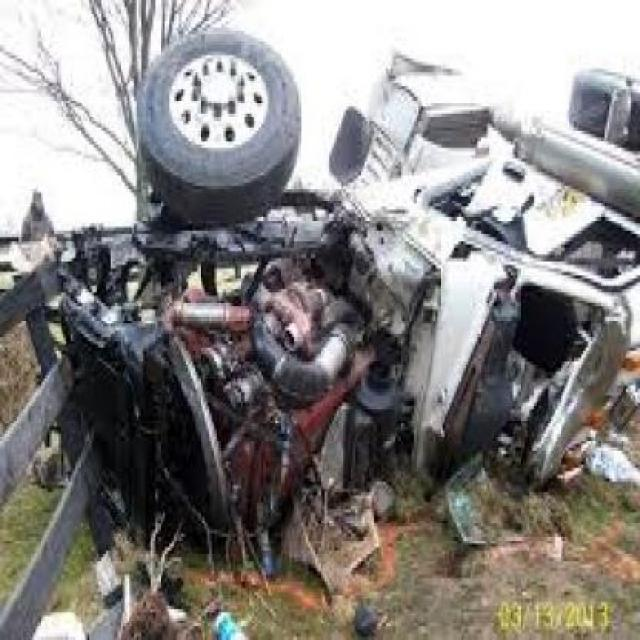accident: (18, 31, 640, 574)
